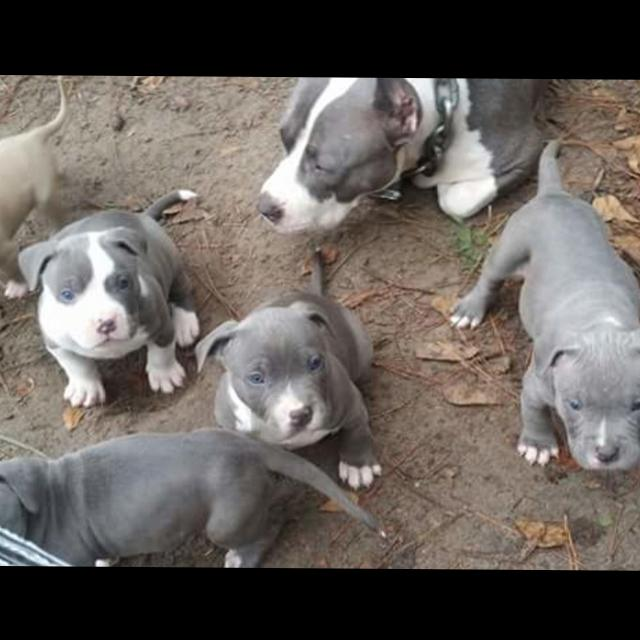am_pit_bull_terrier: (450, 137, 640, 472), (2, 425, 381, 568), (259, 76, 556, 236), (195, 245, 383, 491), (17, 187, 202, 409), (2, 76, 71, 299)
